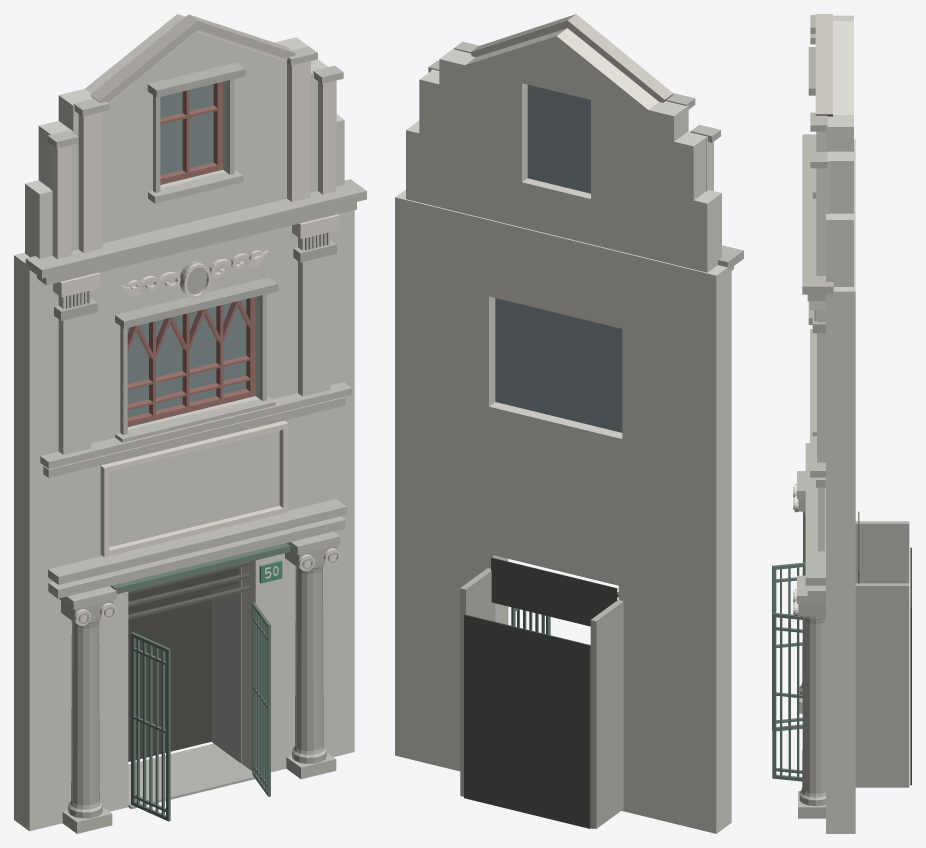
The model's file is huangpu-jiangsu-inn-south-portal-lod.glb.
The picture shows the model from 3 angles, left to right: view 1: azimuth 30°, elevation 25°; view 2: azimuth 150°, elevation 25°; view 3: azimuth 270°, elevation 25°; orthographic projection. The views are drawn at different scales.
Visible parts, largest first — view 1: 江苏旅社弄内南门与山花; view 2: 江苏旅社弄内南门与山花; view 3: 江苏旅社弄内南门与山花.
Boxes of the visible parts, <box> form: 江苏旅社弄内南门与山花: <box>14,14,366,833</box>; 江苏旅社弄内南门与山花: <box>395,14,743,833</box>; 江苏旅社弄内南门与山花: <box>772,14,911,833</box>.
Bounding box in the file's own units: 4.24 × 9.66 × 1.64.
